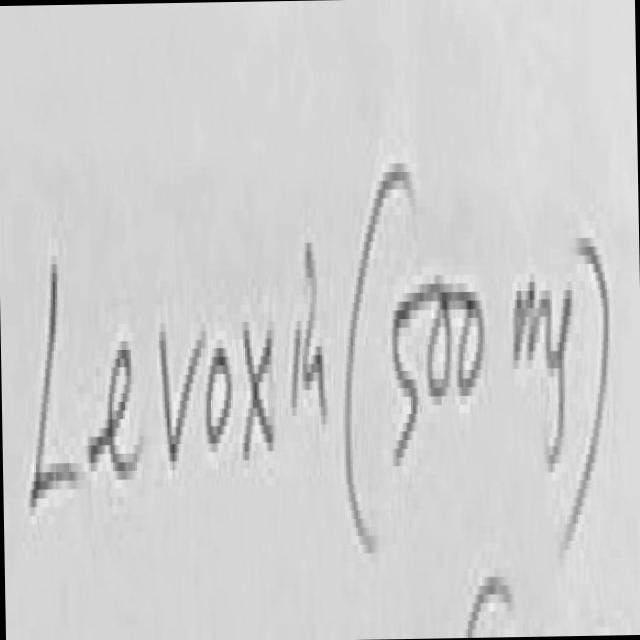0: (457, 291, 484, 396), (429, 292, 452, 396)
5: (391, 292, 423, 468)
L: (29, 266, 83, 502)
e: (106, 341, 140, 480)
g: (547, 280, 574, 473)
i: (291, 320, 300, 403)
m: (513, 271, 554, 368)
n: (304, 303, 327, 419)
o: (206, 348, 232, 443)
v: (159, 331, 204, 457)
x: (240, 325, 275, 471)
